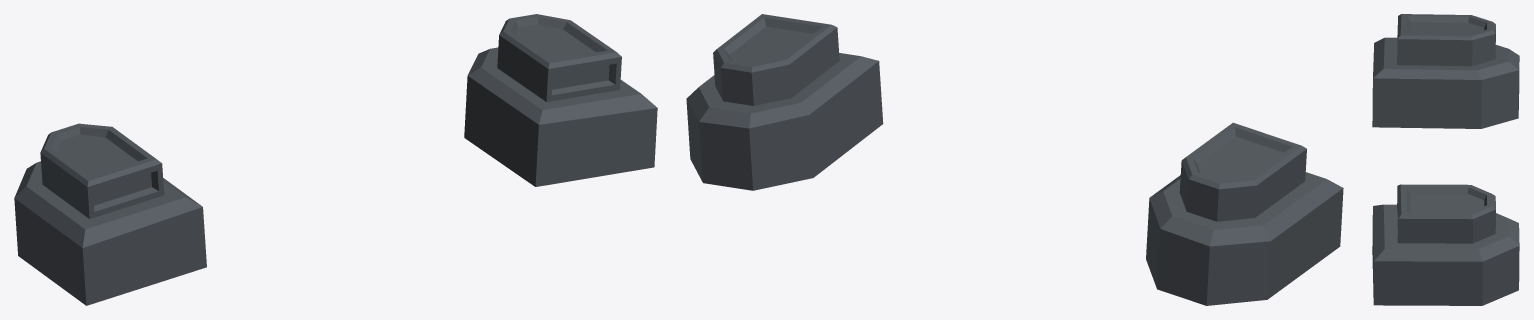
File: Fighter_01_Detail_1_Blue.fbx
The picture shows the model from 3 angles, left to right: view 1: azimuth 30°, elevation 25°; view 2: azimuth 150°, elevation 25°; view 3: azimuth 270°, elevation 25°; orthographic projection. The views are drawn at different scales.
Parts seen in each view (by area): view 1: Fighter_01_Detail_1_Blue; view 2: Fighter_01_Detail_1_Blue; view 3: Fighter_01_Detail_1_Blue.
Part boxes in pixels (box(x1,y1,x2,y2)): Fighter_01_Detail_1_Blue: box(14, 14, 657, 305); Fighter_01_Detail_1_Blue: box(686, 14, 1343, 305); Fighter_01_Detail_1_Blue: box(1372, 14, 1519, 305).
Bounding box in the file's own units: 333 × 63.07 × 94.72.
2 materials, 2 textured.
